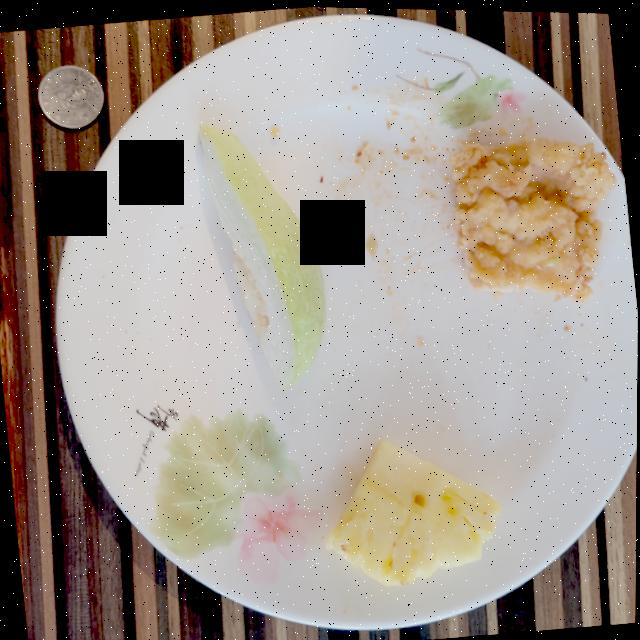coin: (38, 65, 104, 128)
fried chicken cutlet: (450, 134, 616, 298)
guava -sliced-: (199, 124, 326, 387)
pineapple: (327, 438, 501, 584)
